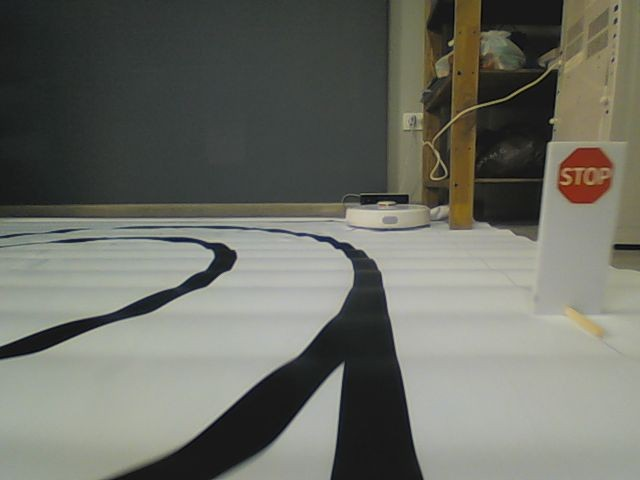Stop: (556, 145, 615, 207)
